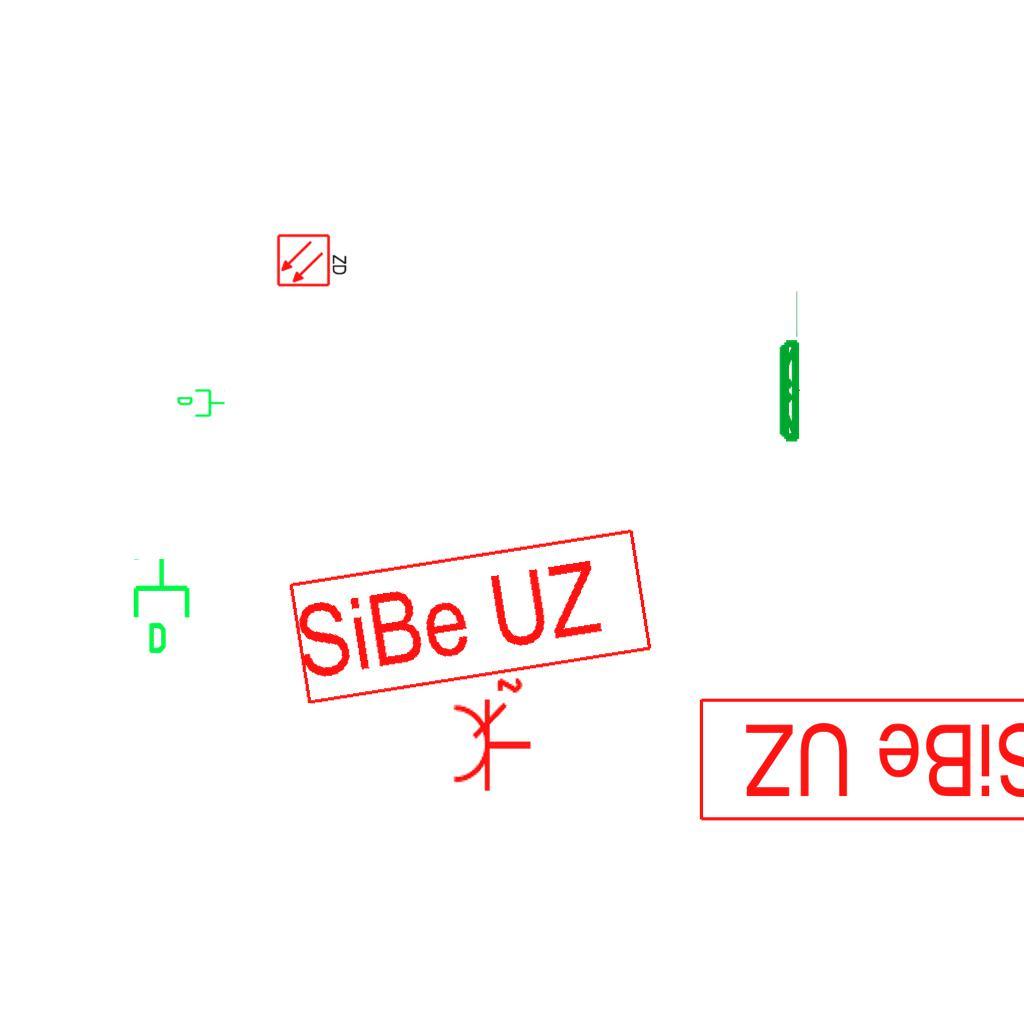Datenanschluss_einfach: (129, 556, 198, 656), (176, 387, 226, 421)
Schukosteckdose_mehrfach: (449, 675, 537, 796)
Sicherheitsleuchte_Wandeinbau: (776, 286, 801, 445)
ZD_Melder_in_Zwischendecke_mit_Revisionsoeffnung_mind_40_x_40_cm: (276, 231, 350, 288)
Zentrale_Sicherheitsbeleuchtung: (285, 524, 658, 710), (694, 694, 1024, 824)
